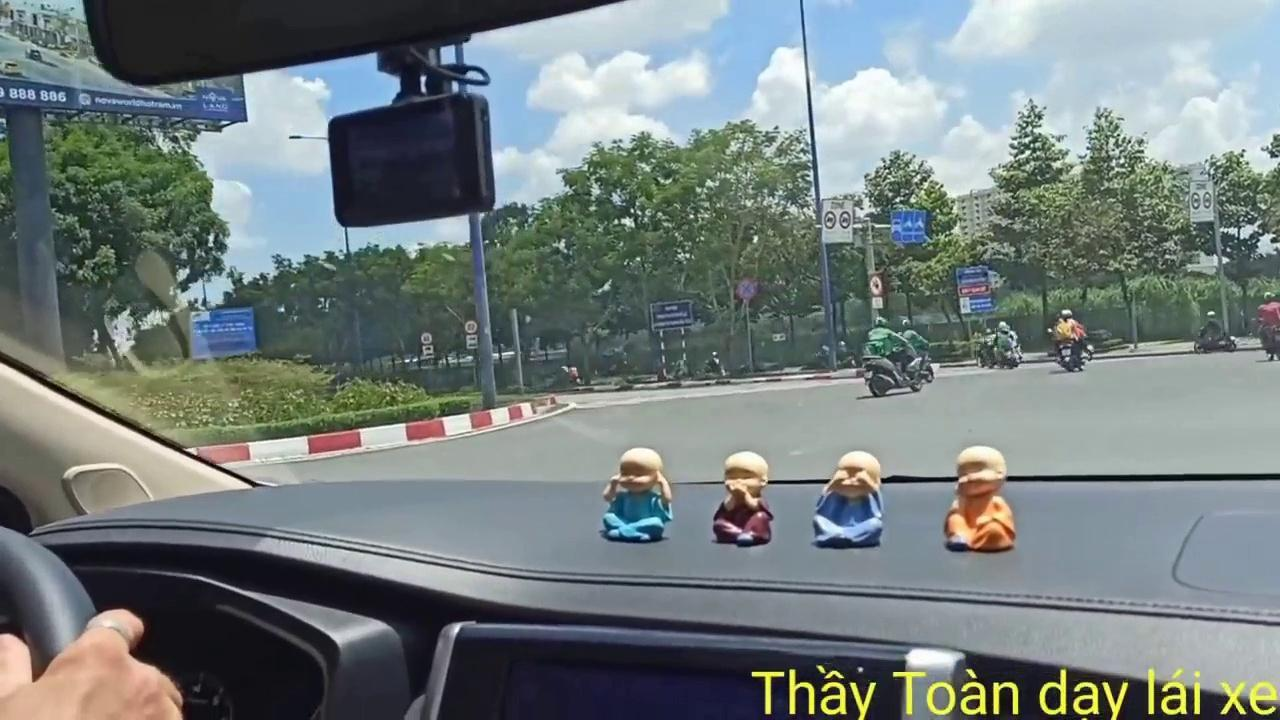Biển phụ: (422, 344, 435, 360), (466, 336, 478, 349)
Cấm cac phương tiện hoạt động trong khung giờ cố định: (821, 198, 855, 250)
Cấm dừng - Cấm đỗ: (735, 278, 757, 299)
Cấm xe máy: (868, 273, 887, 296)
GIơi hạn tốc độ 60Km/h: (420, 330, 433, 344)
Giới hạn tốc độ 80Km/h: (464, 319, 479, 334)
Khác: (189, 309, 259, 360), (953, 262, 995, 316)
Làn đường cho từng xe: (891, 207, 928, 244)
